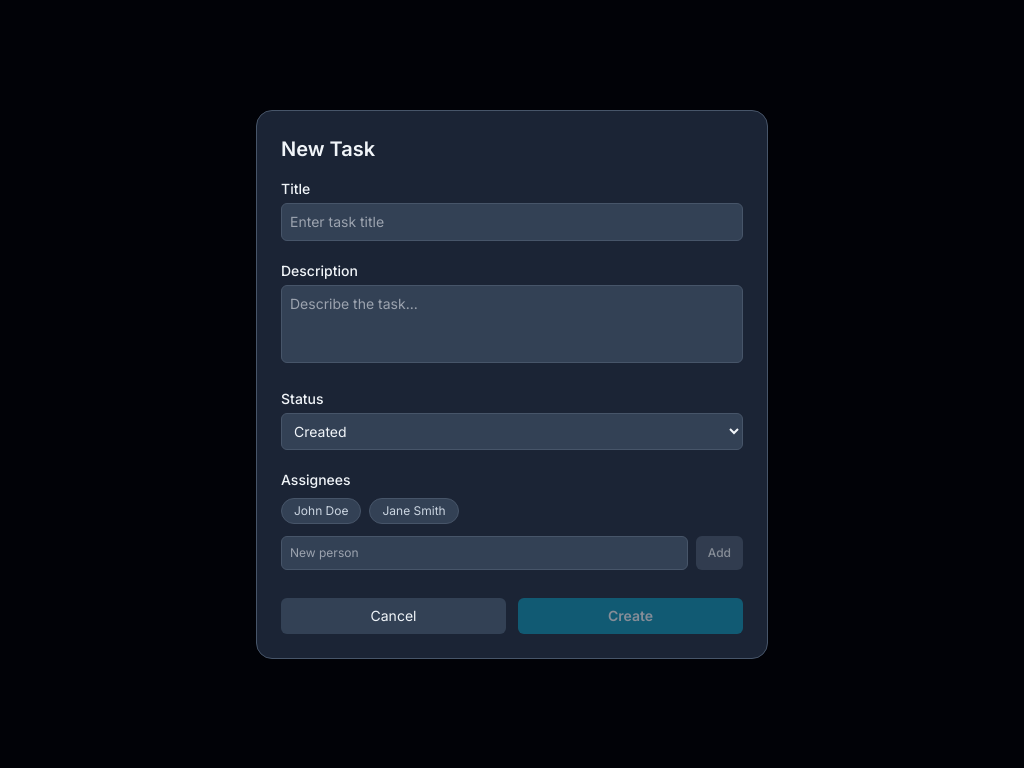
Test: TaskForm › People management › toggles person selection when clicked
This screenshot has width=1024, height=768.
Click the button "John Doe".
click(321, 510)  # box [281,498,362,524]
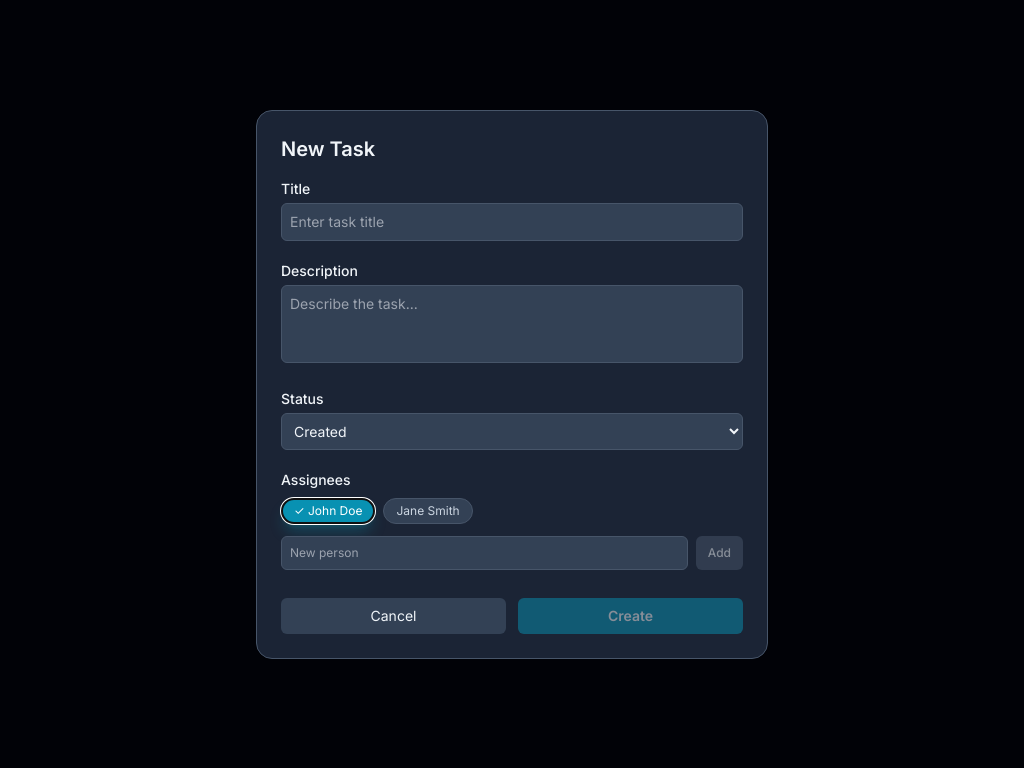
Expected: the button "✓ John Doe" is shown
Click the button "✓ John Doe".
click(328, 510)  # box [281,498,376,524]
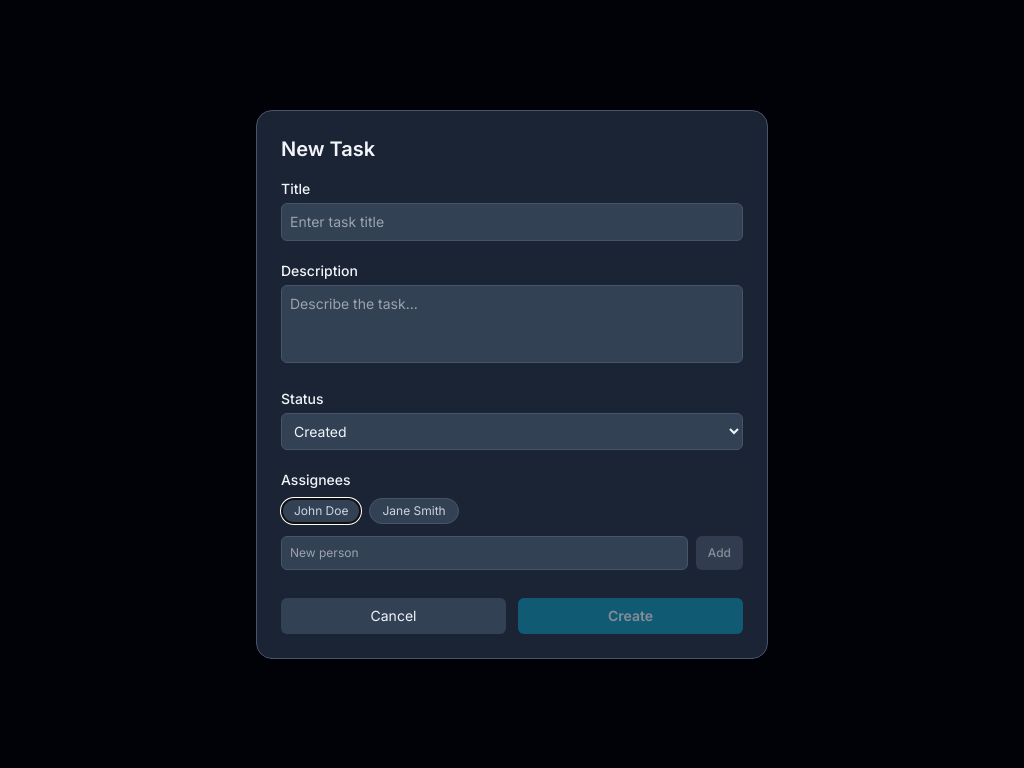
Expected: the button "John Doe" no longer shows "✓", [281,498,362,524]
